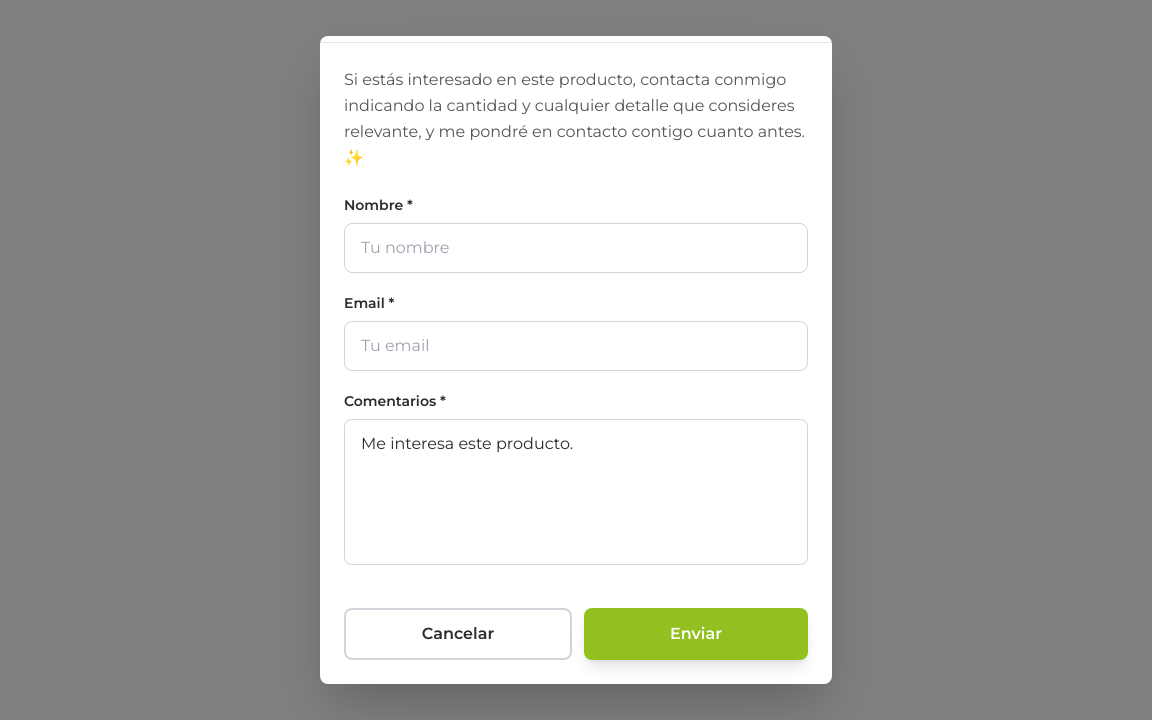
Scenario: ContactModal › Validation › should show error when name is empty
The width and height of the screenshot is (1152, 720).
(page scrolled)
Click the button "Enviar" at coordinates (696, 634), box [584,608,808,660]
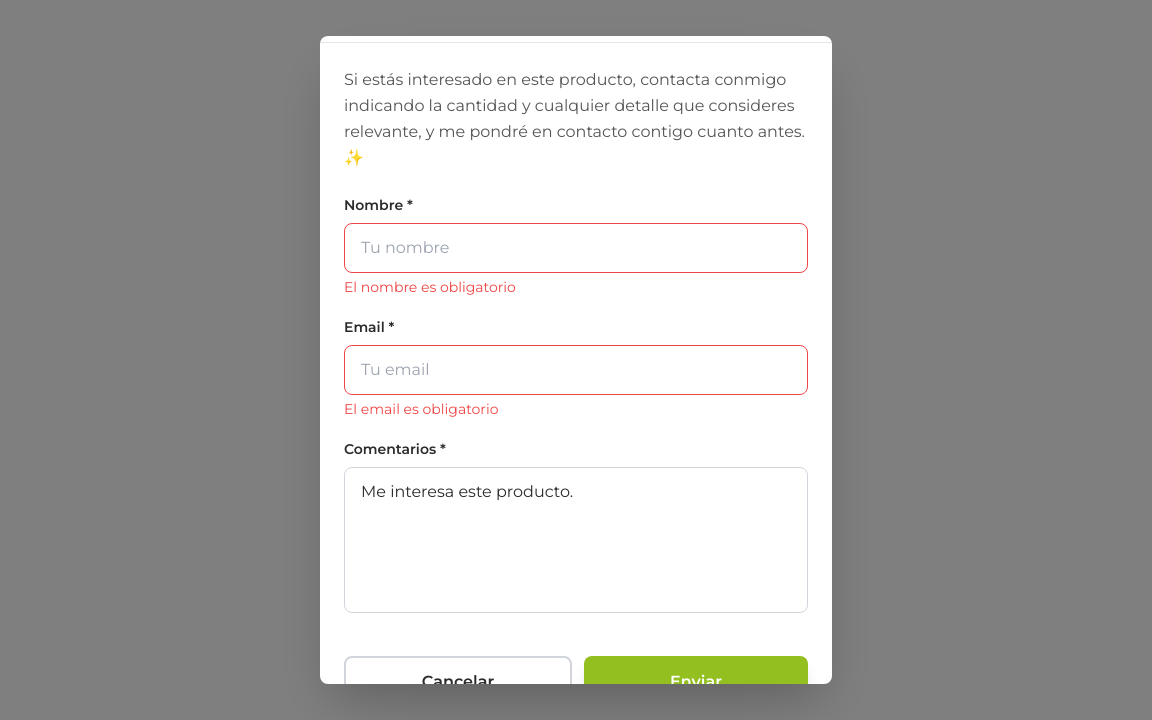
expect the text "El nombre es obligatorio" is shown: met, box [344,278,516,296]
